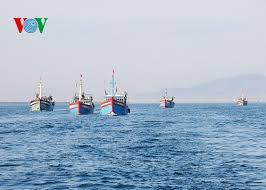Ship: (101, 68, 131, 116), (70, 74, 96, 116), (32, 78, 56, 112), (160, 90, 177, 109), (234, 91, 249, 108)
